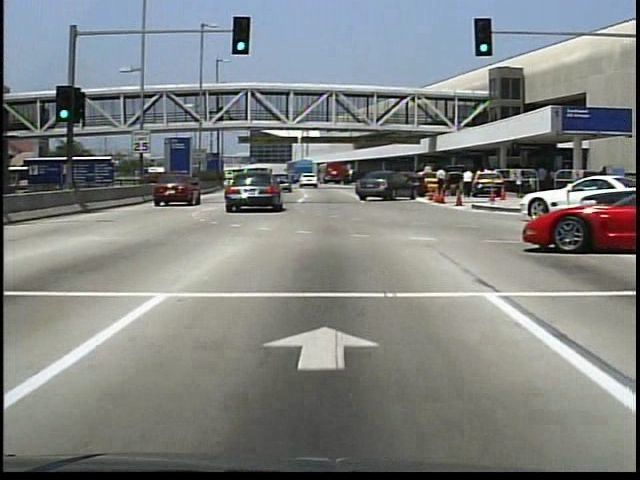person: (434, 168, 451, 204), (512, 172, 527, 206), (460, 171, 475, 202), (534, 167, 547, 192), (216, 107, 225, 126)
